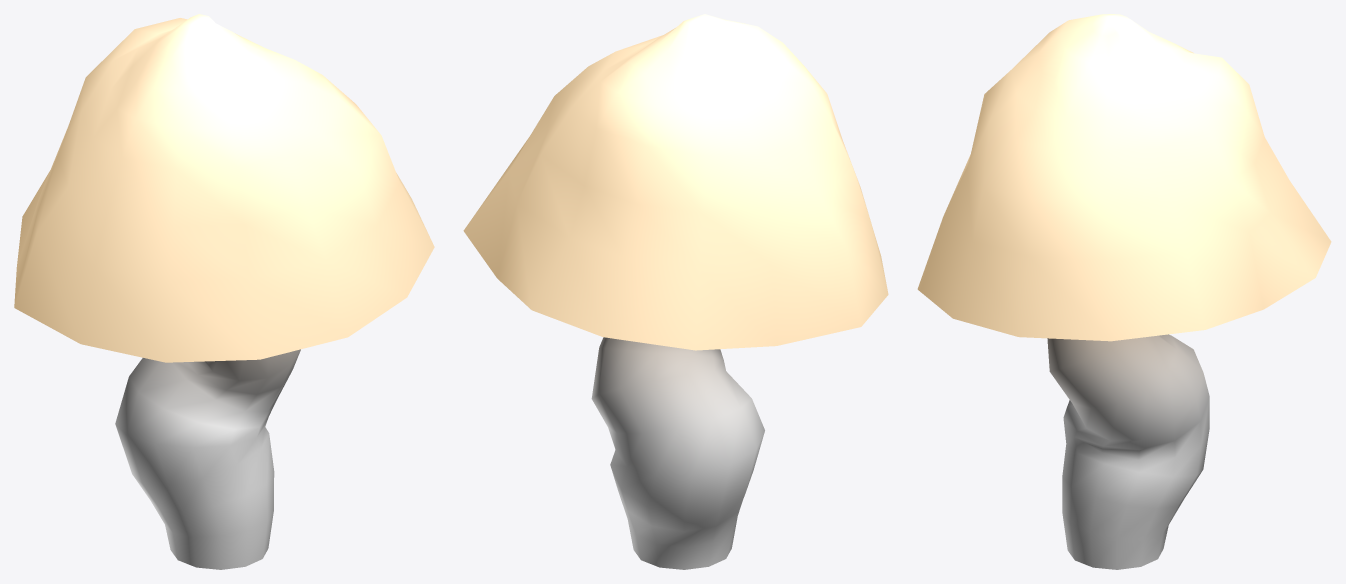
Rendered from mushroom_7.glb.
The picture shows the model from 3 angles, left to right: view 1: azimuth 30°, elevation 25°; view 2: azimuth 150°, elevation 25°; view 3: azimuth 270°, elevation 25°; orthographic projection. The views are drawn at different scales.
Parts seen in each view (by area): view 1: geo1; view 2: geo1; view 3: geo1.
Part boxes in pixels (box(x1,y1,x2,y2)): geo1: box(14, 14, 434, 569); geo1: box(463, 14, 888, 569); geo1: box(917, 14, 1331, 569).
Size of the model in its own units: 0.166 by 0.2223 by 0.1592.
